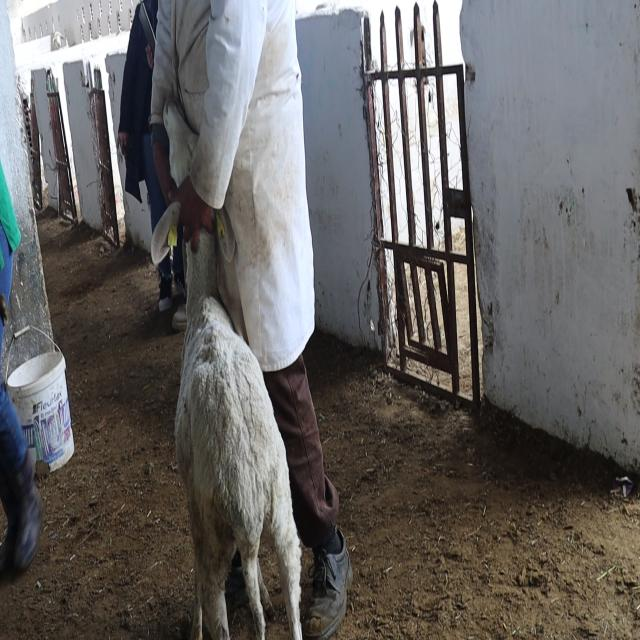Score_1: (174, 230, 302, 639)
